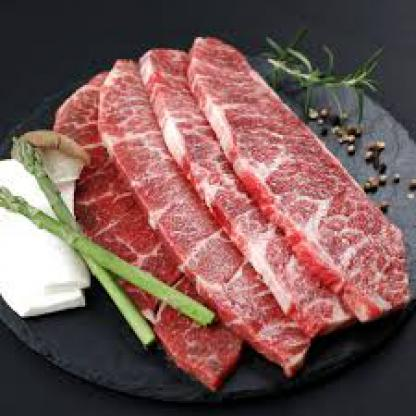beef: (192, 48, 403, 313), (85, 85, 263, 368), (142, 53, 326, 322)
